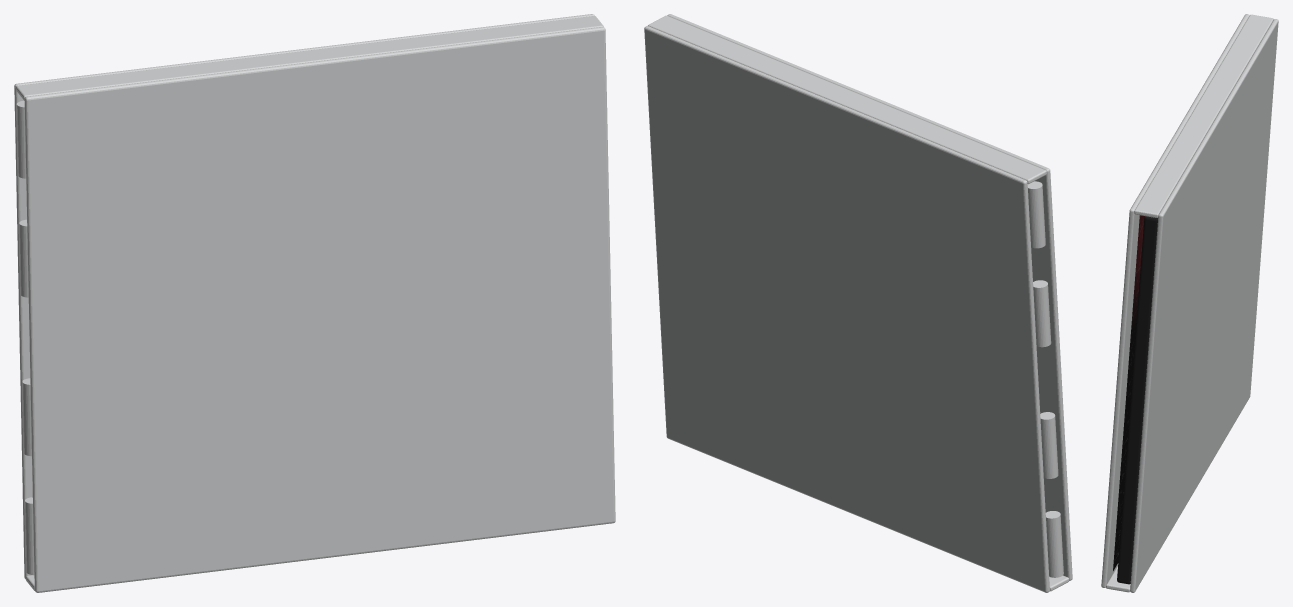
File: feedback-jewelcase.glb
The picture shows the model from 3 angles, left to right: view 1: azimuth 30°, elevation 25°; view 2: azimuth 150°, elevation 25°; view 3: azimuth 270°, elevation 25°; orthographic projection. The views are drawn at different scales.
Visible parts, largest first — view 1: JewelCase_Lid, JewelCase_Wall1, JewelCase_Base; view 2: JewelCase_Base, JewelCase_Lid, JewelCase_Wall1, JewelCase_Hinge1, JewelCase_Hinge2, JewelCase_Hinge3, JewelCase_Hinge0; view 3: JewelCase_Base, JewelCase_Wall1, JewelCase_Tray, JewelCase_Lid, JewelCase_Insert, JewelCase_Wall-1.
Boxes of the visible parts, <box> form: JewelCase_Lid: <box>24,27,615,592</box>; JewelCase_Wall1: <box>16,16,603,100</box>; JewelCase_Base: <box>14,14,594,579</box>; JewelCase_Base: <box>644,26,1049,592</box>; JewelCase_Lid: <box>667,14,1072,580</box>; JewelCase_Wall1: <box>648,15,1046,184</box>; JewelCase_Hinge1: <box>1040,412,1058,478</box>; JewelCase_Hinge2: <box>1033,280,1051,347</box>; JewelCase_Hinge3: <box>1027,181,1045,248</box>; JewelCase_Hinge0: <box>1045,511,1063,577</box>; JewelCase_Base: <box>1130,19,1278,592</box>; JewelCase_Wall1: <box>1134,14,1273,217</box>; JewelCase_Tray: <box>1117,216,1158,584</box>; JewelCase_Lid: <box>1101,14,1249,587</box>; JewelCase_Insert: <box>1113,215,1144,570</box>; JewelCase_Wall-1: <box>1106,566,1130,592</box>.
Size of the model in its own units: 0.1421 by 0.1253 by 0.0525.
Materials: 3 (1 with a texture image).
